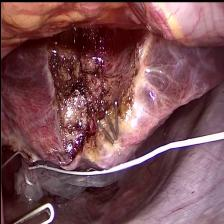Grasper: (4, 200, 54, 224)
Specimen Bag: (6, 151, 136, 204)
